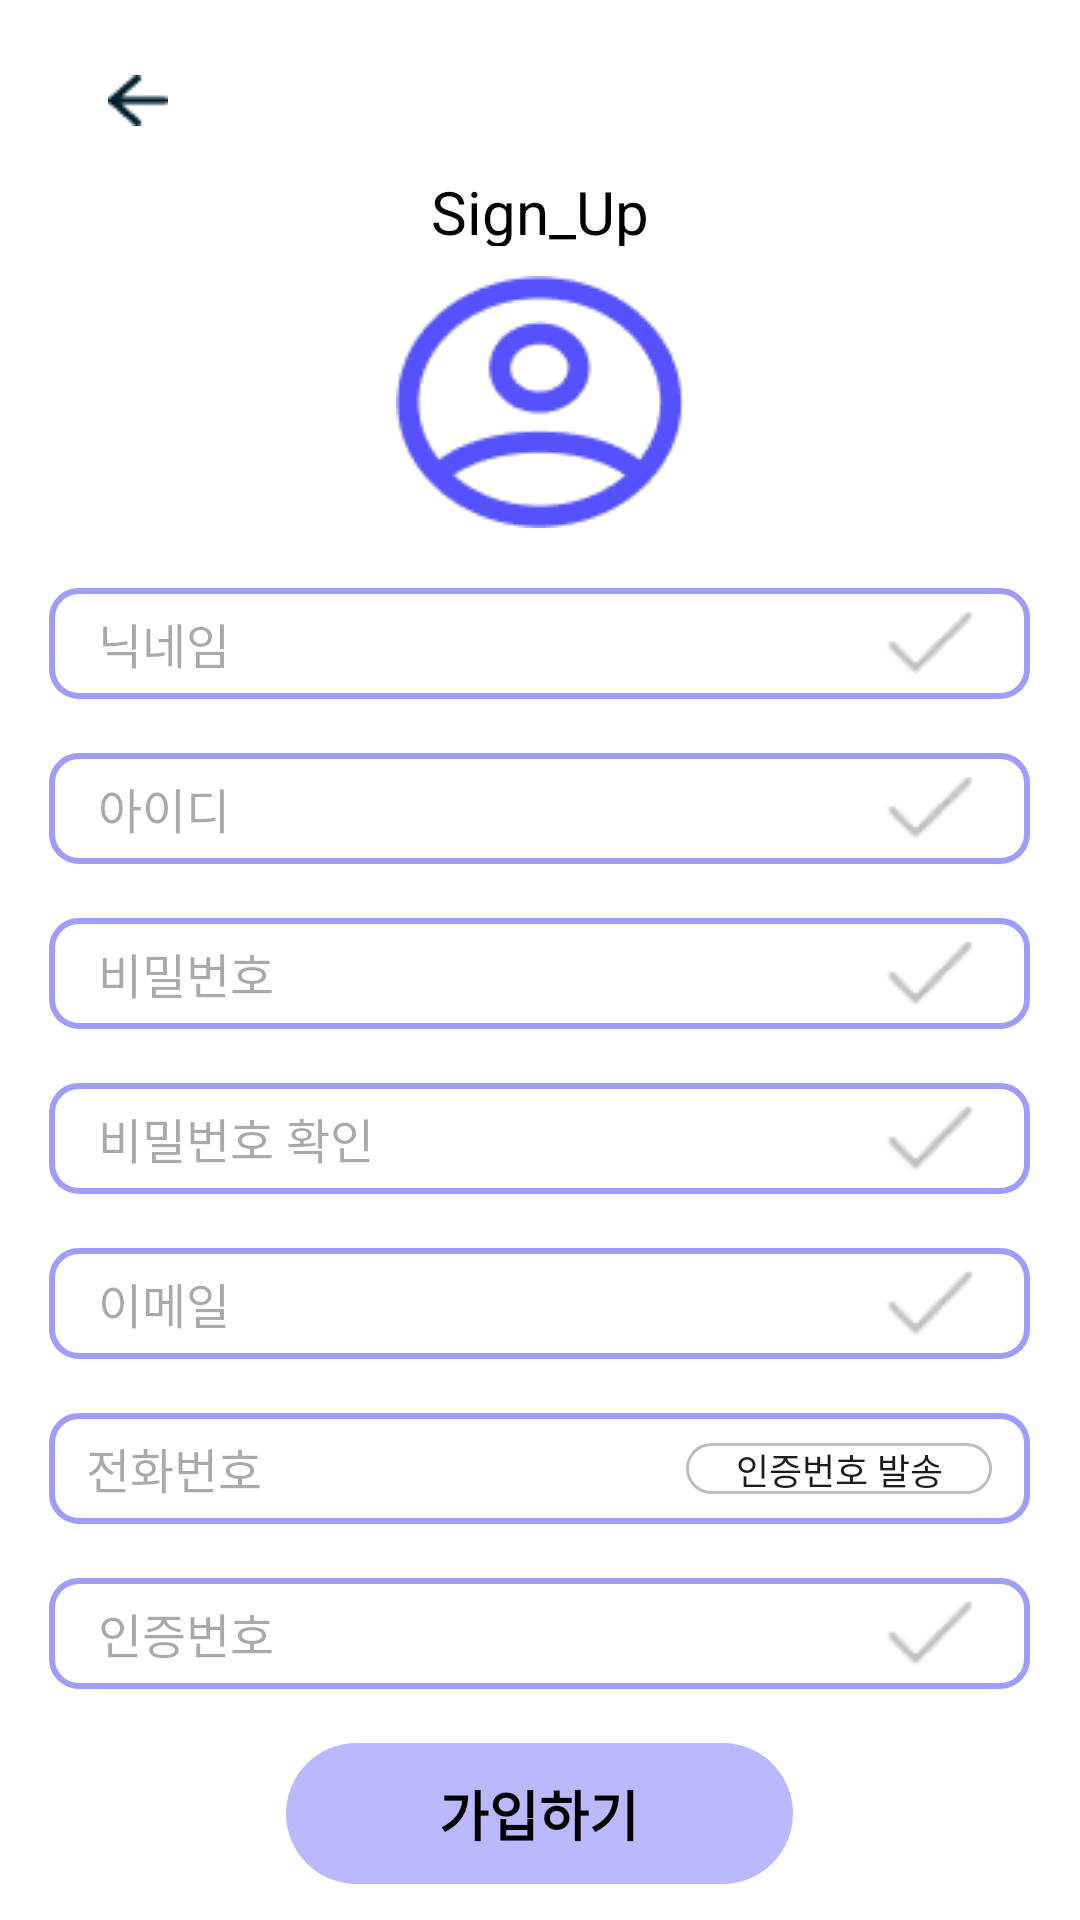

Locate icon controls on the screen. Image size 1080px×1920px, boxes as [x1,y1,x2,y2].
arrow back: [108,75,168,126]
check: [889,613,972,672], [889,778,972,837], [889,942,972,1003], [889,1107,972,1168], [889,1272,972,1333], [889,1602,972,1663]
profile circled: [396,276,682,528]
